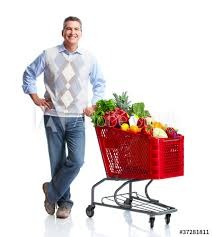with_basket: (86, 101, 185, 226)
without_mask: (61, 14, 82, 45)
